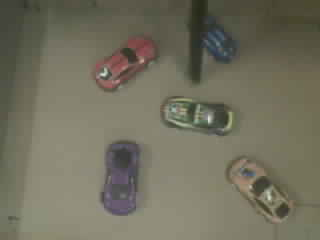Car: (227, 157, 292, 222), (96, 37, 155, 89), (161, 96, 233, 135), (104, 143, 137, 213), (202, 17, 235, 61)
